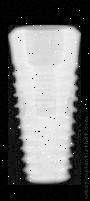Novodent: (2, 24, 81, 186)
